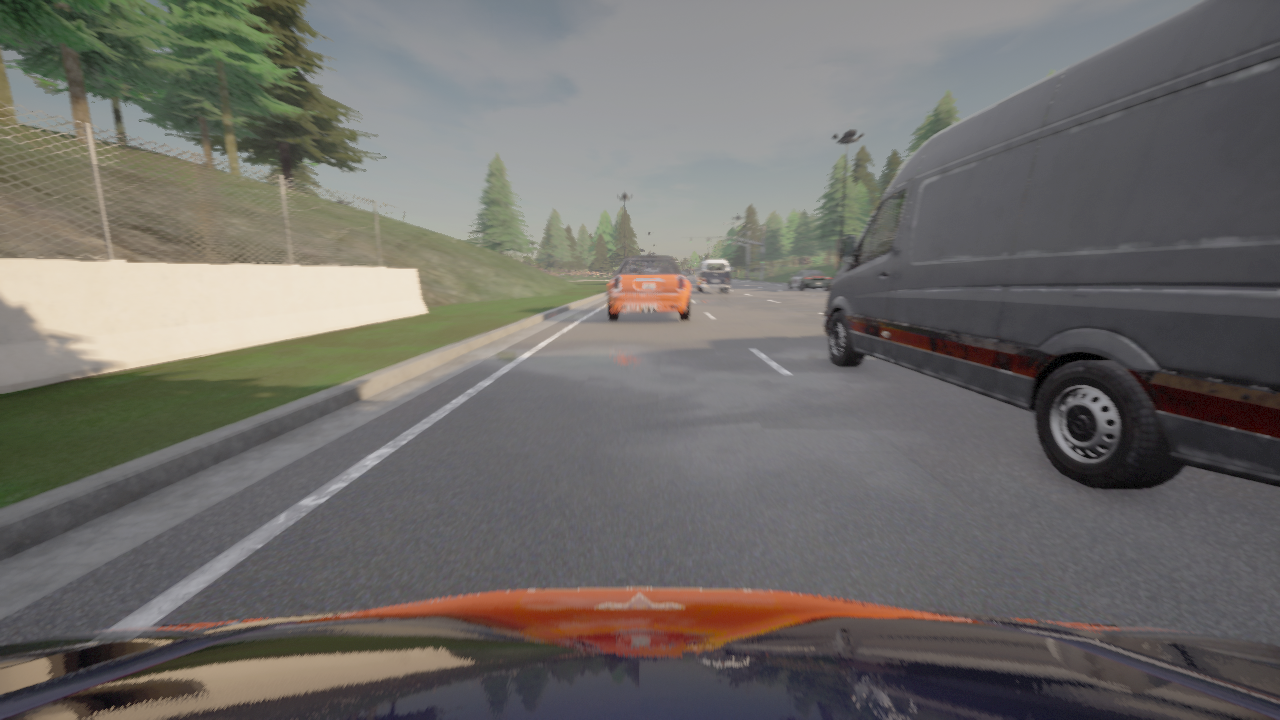cyclist: (824, 0, 1279, 489), (0, 588, 1279, 719), (607, 251, 690, 320), (695, 259, 729, 292), (788, 268, 832, 291)
